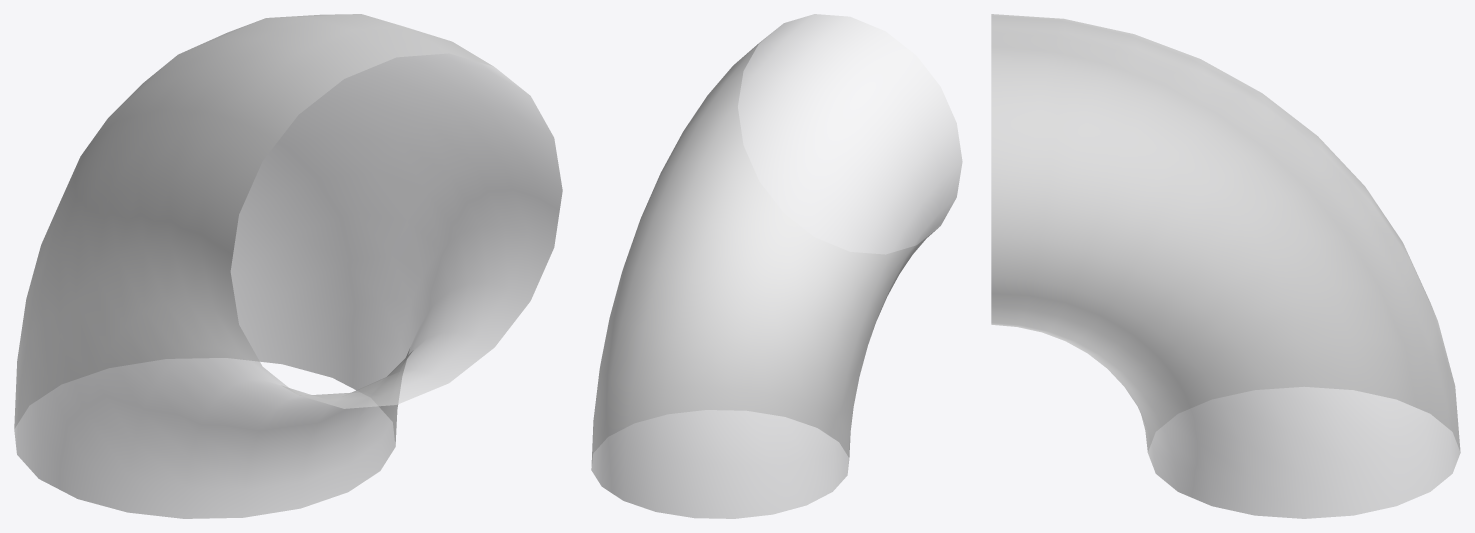
The model's file is G01_031_PipeE.fbx.
3 renders of one model, left to right at view 1: azimuth 30°, elevation 25°; view 2: azimuth 150°, elevation 25°; view 3: azimuth 270°, elevation 25°, orthographic. The views are drawn at different scales.
Visible parts, largest first — view 1: 009_Pipe_Curve_W; view 2: 009_Pipe_Curve_W; view 3: 009_Pipe_Curve_W.
Boxes of the visible parts, bbox=[...] form: 009_Pipe_Curve_W: bbox=[14, 14, 562, 518]; 009_Pipe_Curve_W: bbox=[591, 14, 962, 518]; 009_Pipe_Curve_W: bbox=[991, 14, 1460, 518].
Size of the model in its own units: 50 by 75 by 75.
